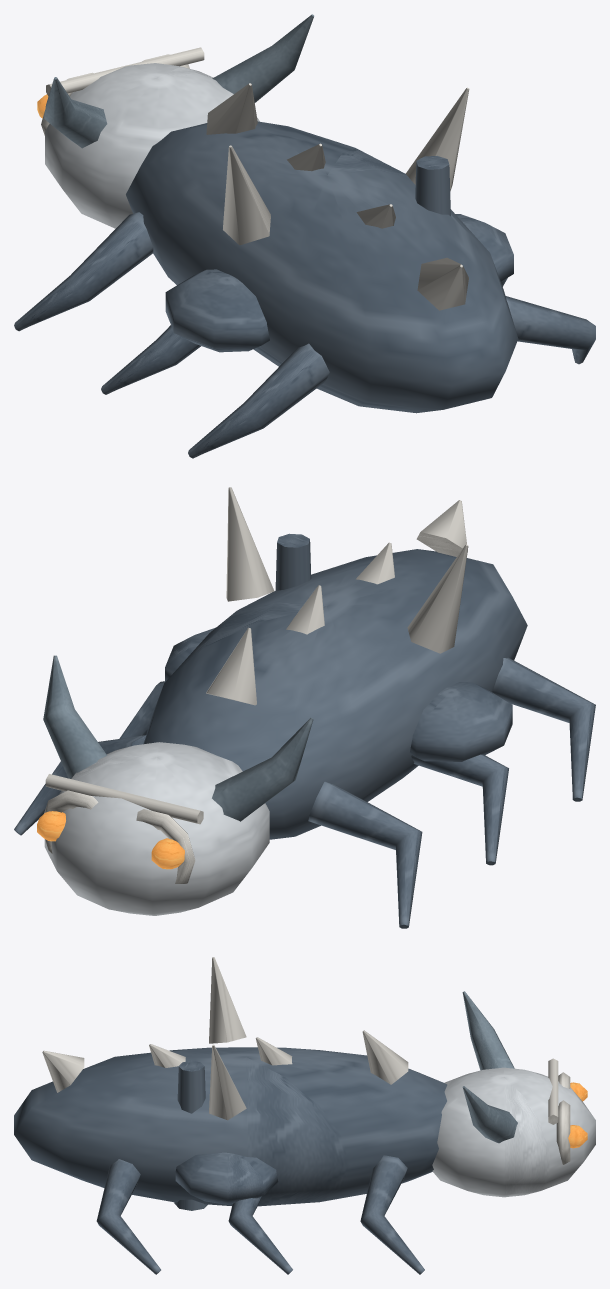
Rendered from crawler.glb.
3 views of the same model, one above another, from view 1: azimuth 30°, elevation 25°; view 2: azimuth 150°, elevation 25°; view 3: azimuth 270°, elevation 25° (orthographic). The views are drawn at different scales.
Visible parts, largest first — view 1: Body, FactionBrute, FactionArcane, FactionIndustrial; view 2: Body, FactionBrute, FactionArcane, FactionIndustrial; view 3: Body, FactionBrute, FactionArcane, FactionIndustrial.
Boxes of the visible parts, left/top/right/bottom form: Body: left=14, top=63, right=595, bottom=458; FactionBrute: left=44, top=14, right=513, bottom=352; FactionArcane: left=223, top=87, right=469, bottom=245; FactionIndustrial: left=41, top=47, right=450, bottom=216; Body: left=14, top=500, right=595, bottom=928; FactionBrute: left=43, top=627, right=512, bottom=821; FactionArcane: left=226, top=487, right=468, bottom=653; FactionIndustrial: left=44, top=533, right=311, bottom=883; Body: left=14, top=1030, right=595, bottom=1274; FactionBrute: left=175, top=991, right=517, bottom=1204; FactionArcane: left=209, top=957, right=246, bottom=1120; FactionIndustrial: left=174, top=1058, right=570, bottom=1210.
Size of the model in its own units: 0.2477 by 0.16 by 0.4167.
5 materials, 5 textured.
